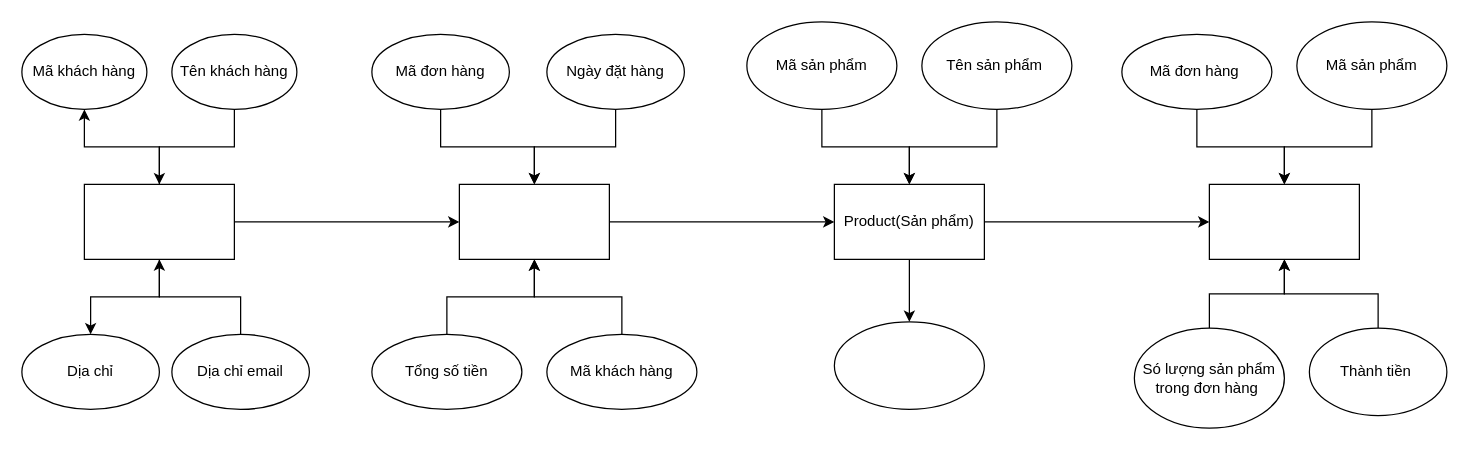
The diagram is 1469 pixels wide and 450 high, and some of its shapes have lost their labels. Each missing label, with the box of its shape:
Customer (Khách hàng): (83, 183, 234, 259)
GIá: (833, 321, 984, 409)
Oder(đơn hàng): (458, 183, 609, 259)
OderDetal(Chi tiết đơn hàng): (1208, 183, 1359, 259)
